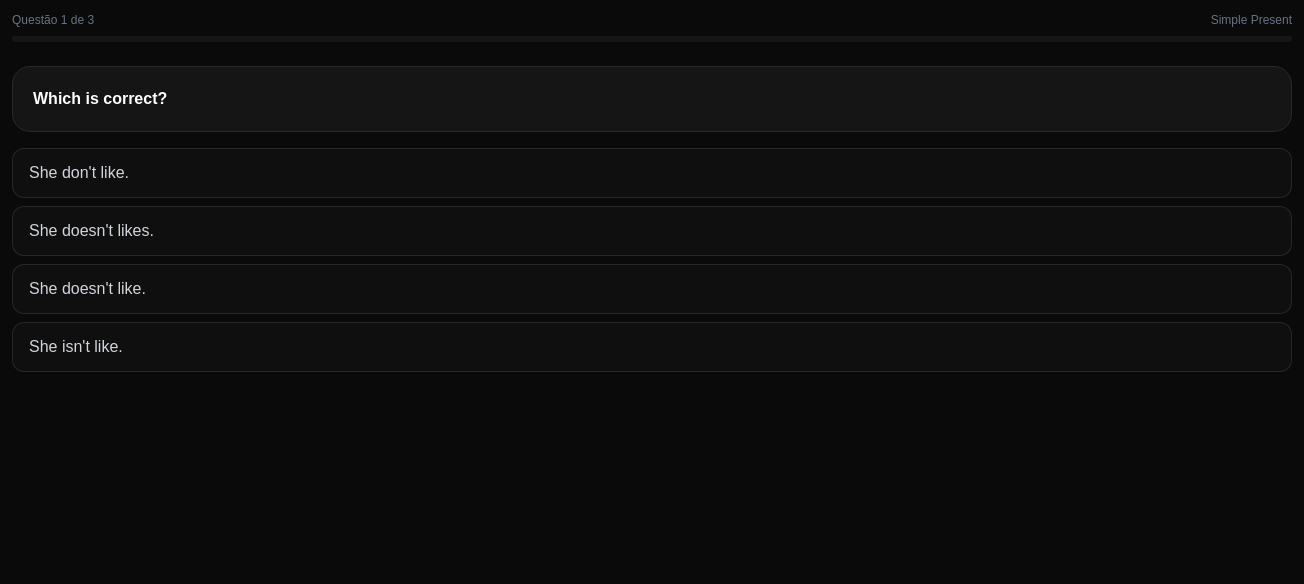
QuizClient › resultado abaixo de 66% exibe mensagem de revisão
This screenshot has width=1304, height=584.
Click the button "She don't like.". click: (79, 172)
box: [12,148,1292,198]
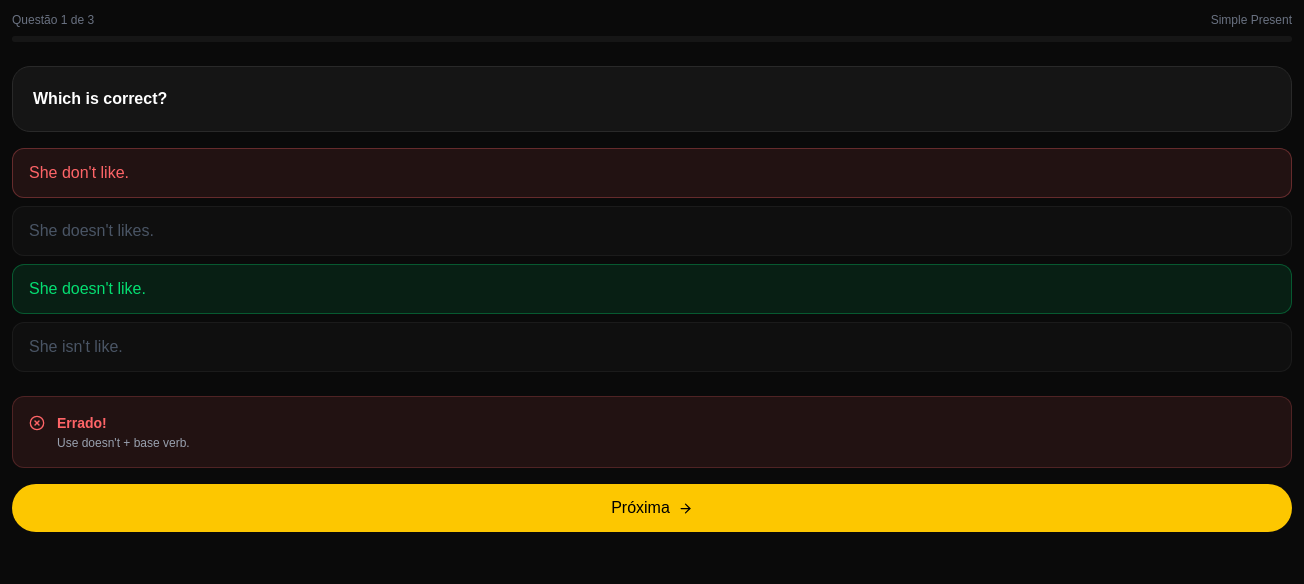
Click the button "Próxima". click: (652, 508)
box: [12,484,1292,532]
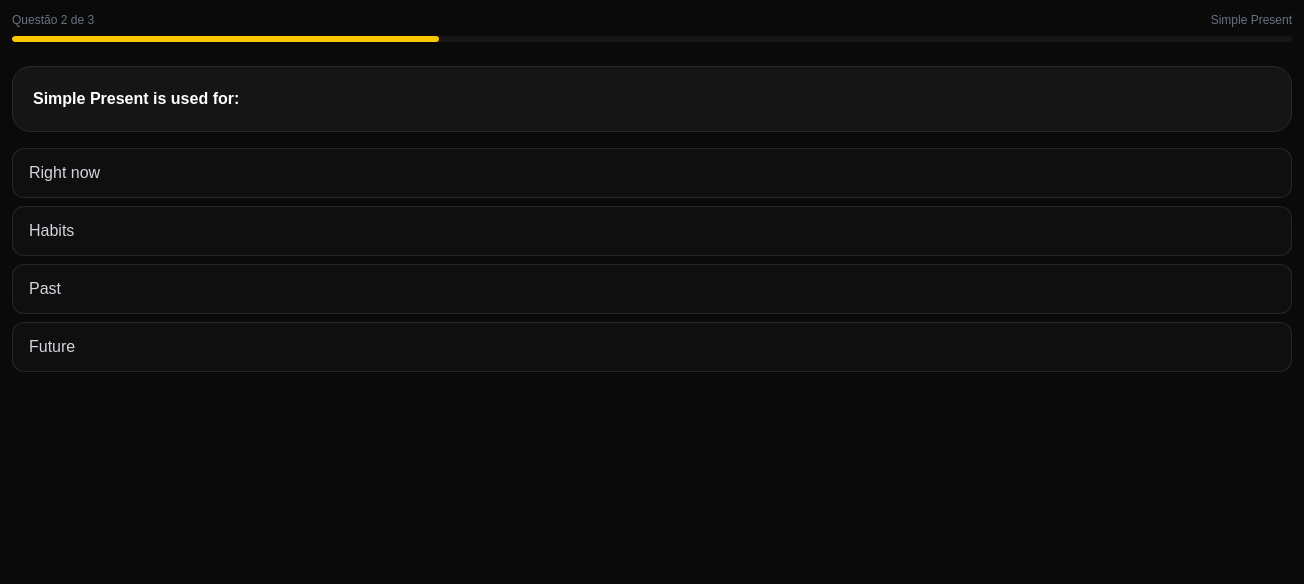
Click the button "Right now". click: (65, 172)
box: [12,148,1292,198]
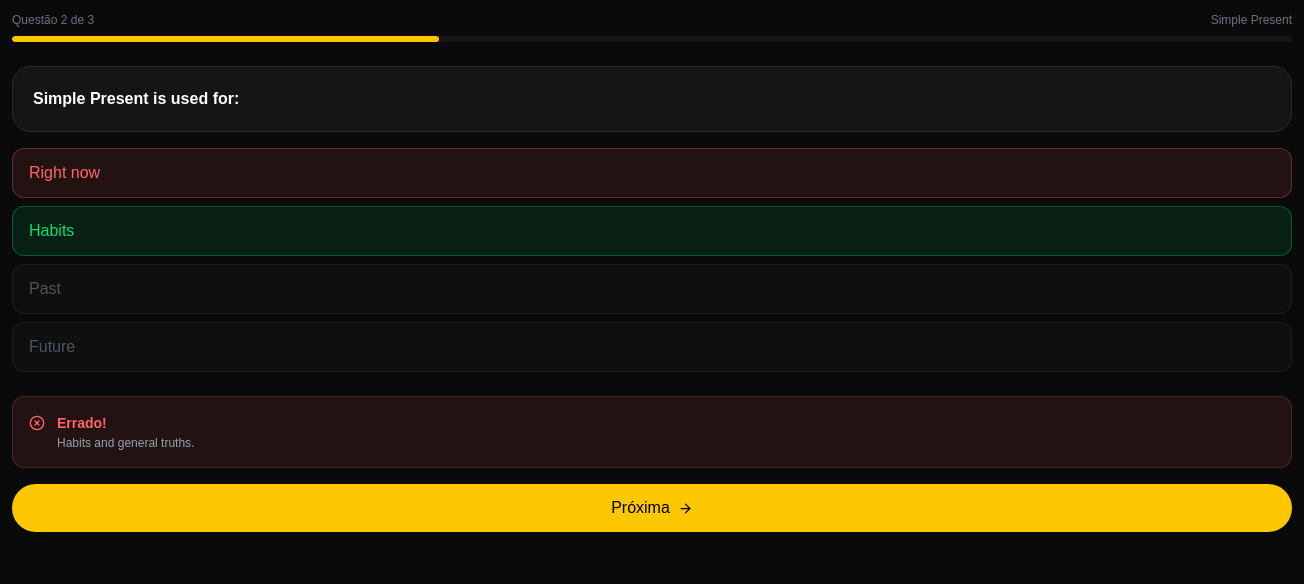
Click the button "Próxima". click: (652, 508)
box: [12,484,1292,532]
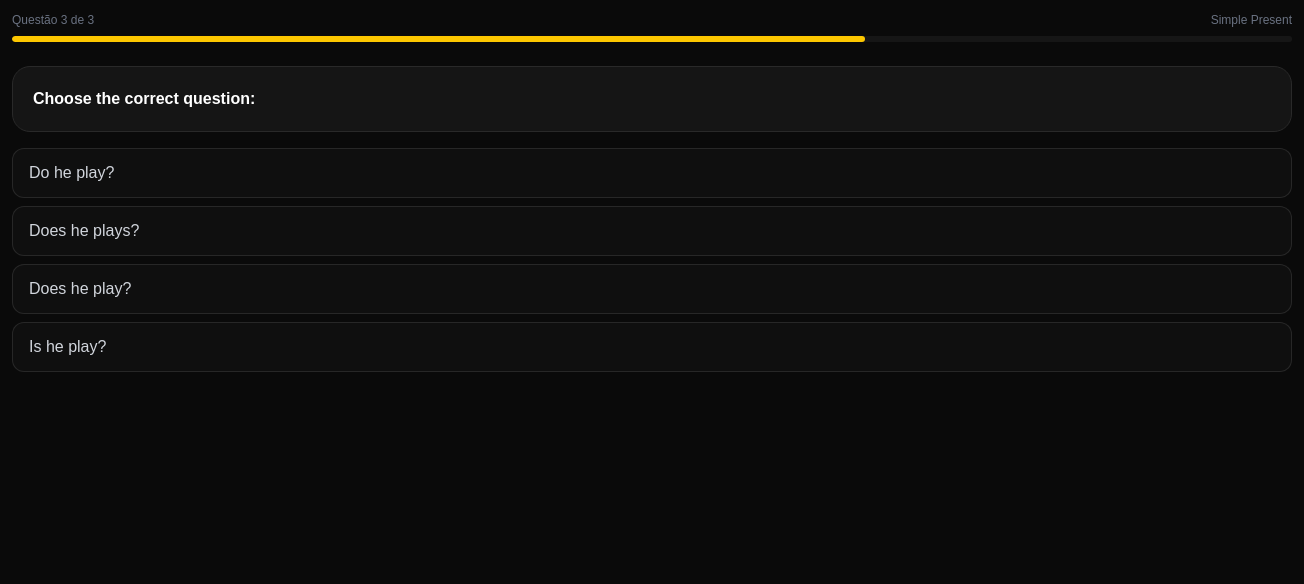
Click the button "Do he play?". click: (72, 172)
box: [12,148,1292,198]
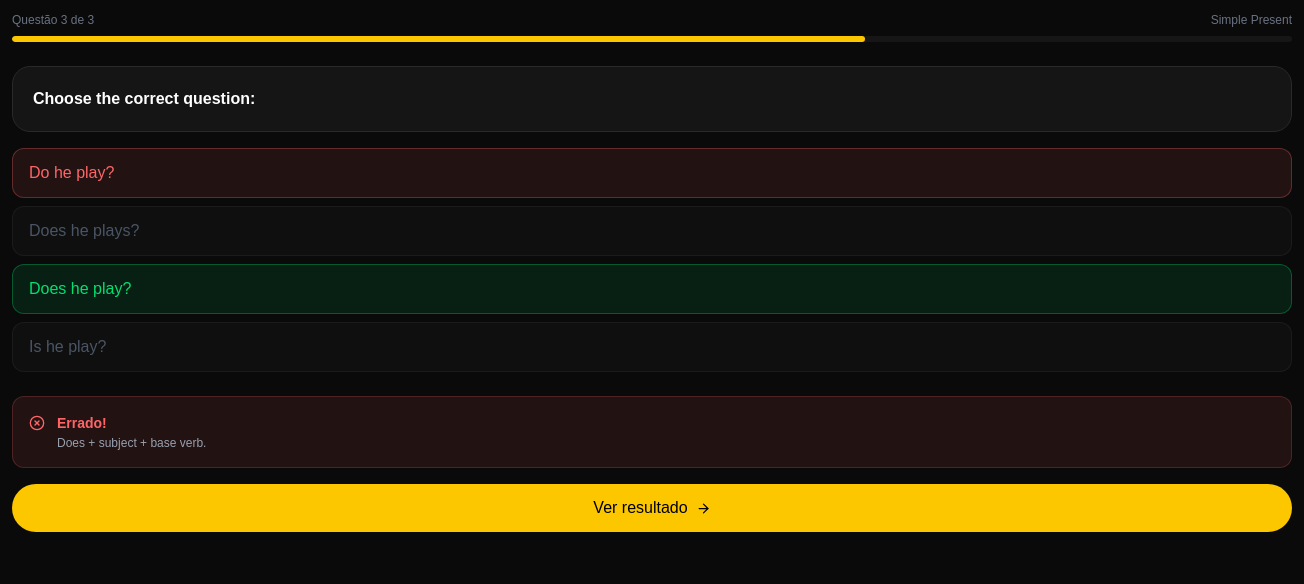
Click the button "Ver resultado". click: (652, 508)
box: [12,484,1292,532]
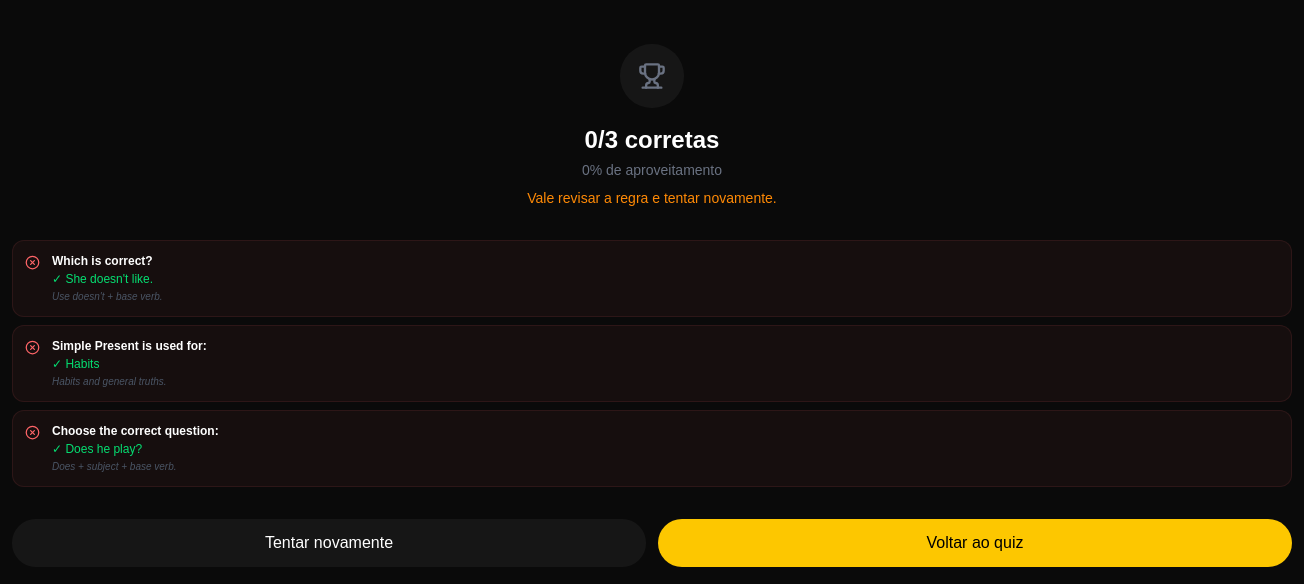
Expected: the heading "0/3 corretas" is shown, [585,126,719,153]
Expected: the text "Vale revisar a regra e tentar novamente." is shown, [527,190,777,206]
